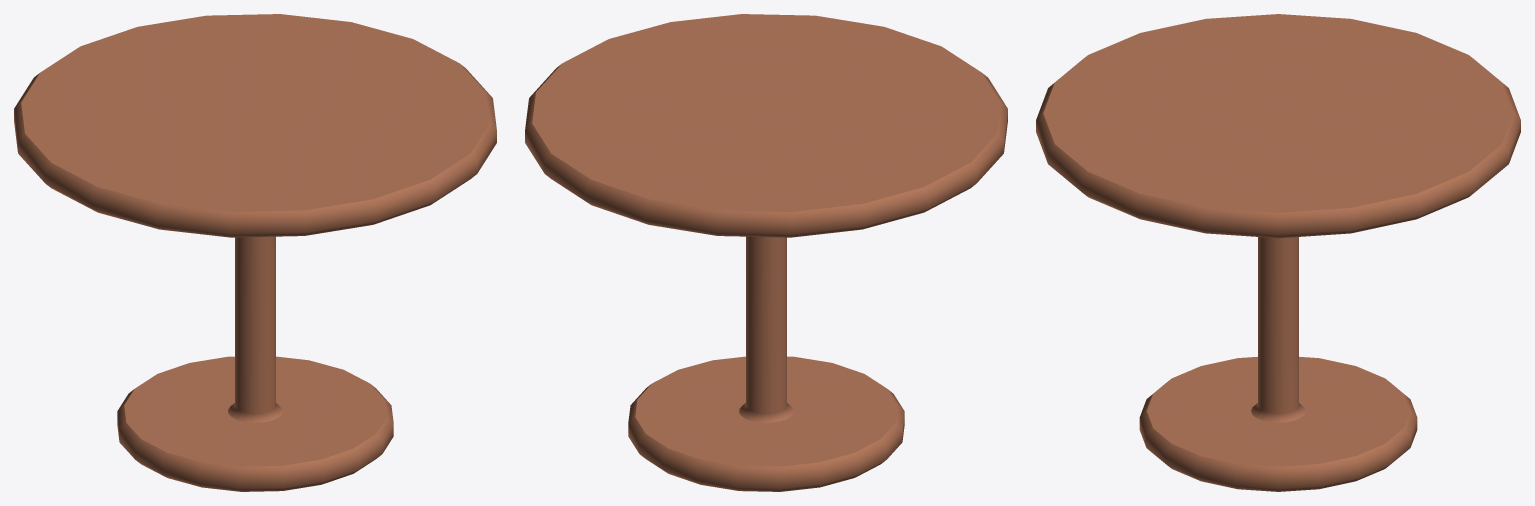
File: table 1.fbx
3 renders of one model, left to right at view 1: azimuth 30°, elevation 25°; view 2: azimuth 150°, elevation 25°; view 3: azimuth 270°, elevation 25°, orthographic.
Parts seen in each view (by area): view 1: pCylinder9; view 2: pCylinder9; view 3: pCylinder9.
Boxes of the visible parts, x1,y1,x2,y2 form: pCylinder9: (14, 14, 496, 491); pCylinder9: (525, 14, 1007, 491); pCylinder9: (1036, 14, 1520, 491).
Size of the model in its own units: 8.07 by 5.93 by 8.07.
